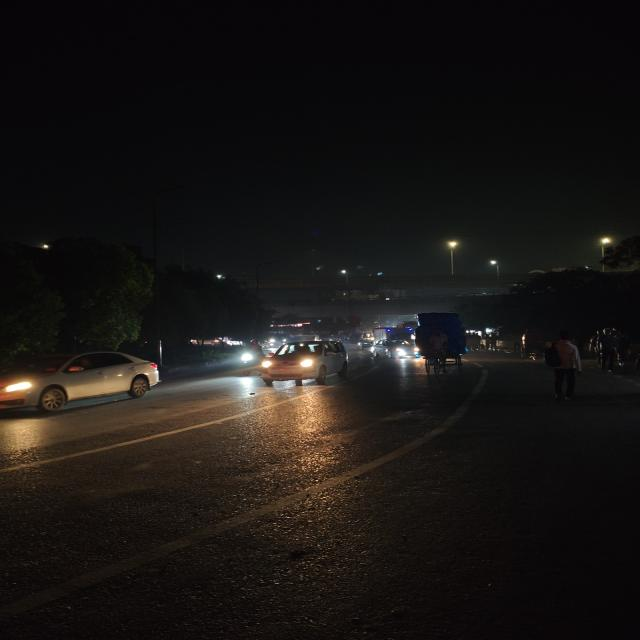car: (1, 345, 164, 423), (256, 338, 353, 388), (368, 339, 418, 361)
pedestrian: (541, 330, 584, 402), (595, 328, 625, 373)
rickshaw: (413, 309, 470, 369)
truck: (379, 324, 412, 343)
